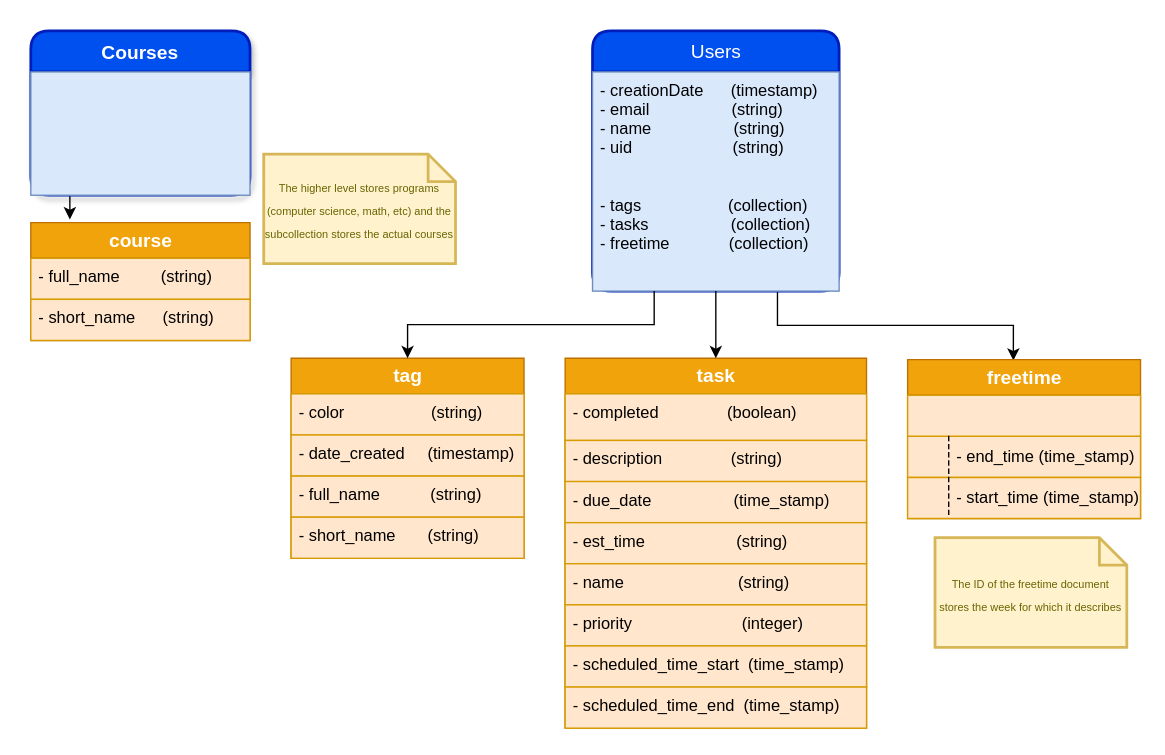
The diagram is 1165 pixels wide and 755 high, and some of its shapes have lost their labels. Each missing label, with the centre of its shape:
- full_name (string) - short_name (string) - courses (collection): point 139,133
- times (array): point 1023,415
